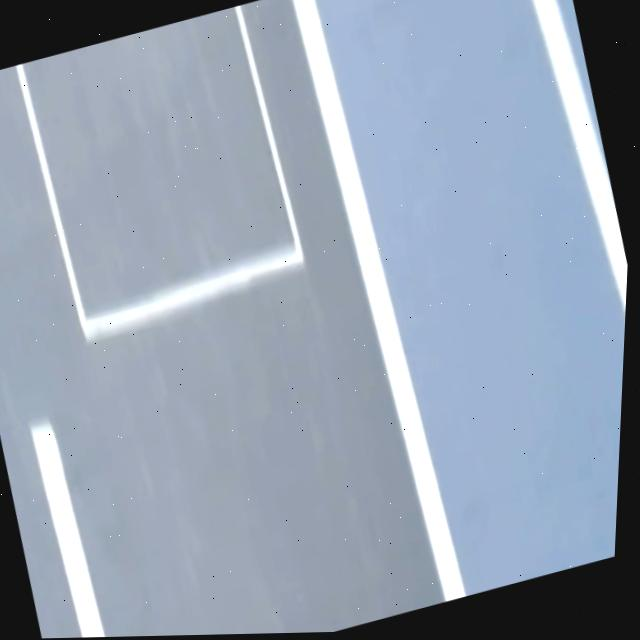center: (32, 420, 106, 638)
left: (293, 0, 466, 601)
